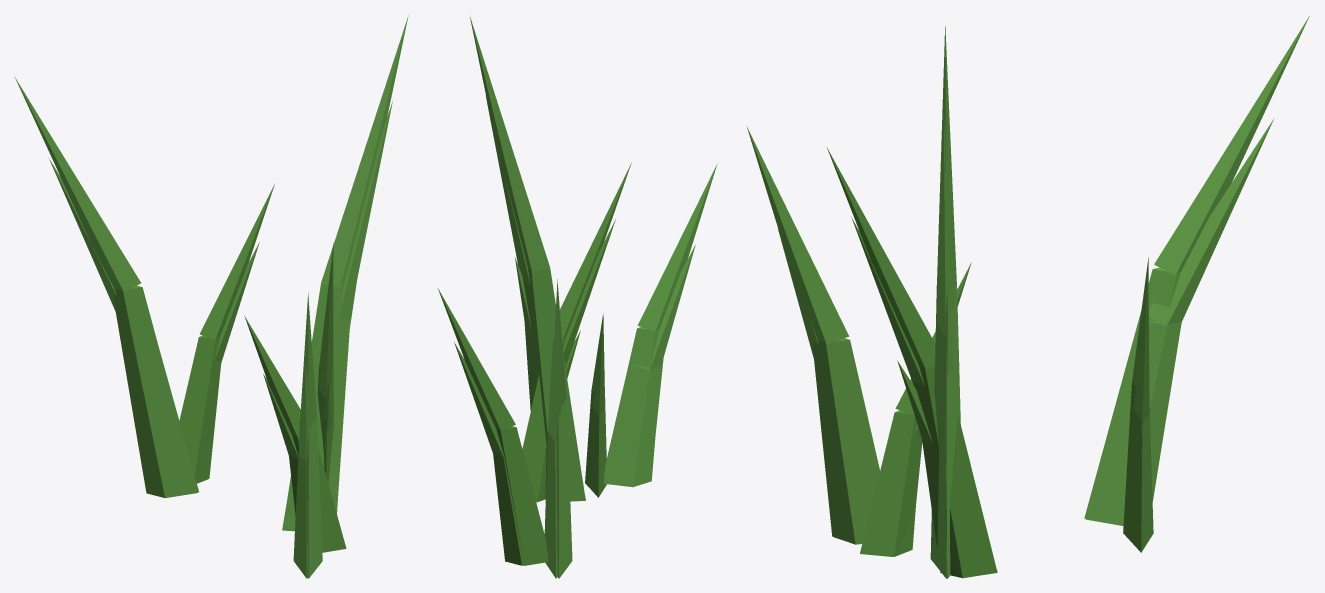
The model's file is tallGrass.glb.
3 views of the same model, side by side, from view 1: azimuth 30°, elevation 25°; view 2: azimuth 150°, elevation 25°; view 3: azimuth 270°, elevation 25° (orthographic). The views are drawn at different scales.
Visible parts, largest first — view 1: tallGrass-m; view 2: tallGrass-m; view 3: tallGrass-m.
Boxes of the visible parts, <box> form: tallGrass-m: <box>15,15,408,578</box>; tallGrass-m: <box>438,17,717,578</box>; tallGrass-m: <box>747,16,1309,578</box>.
Size of the model in its own units: 0.6378 by 1.24 by 1.05.
